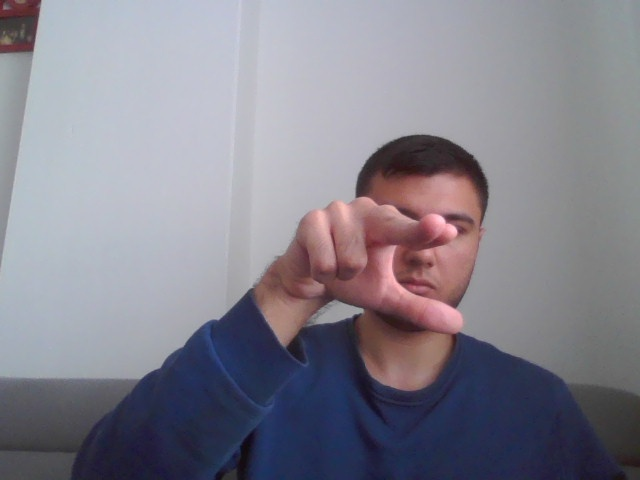no: (291, 195, 466, 338)
